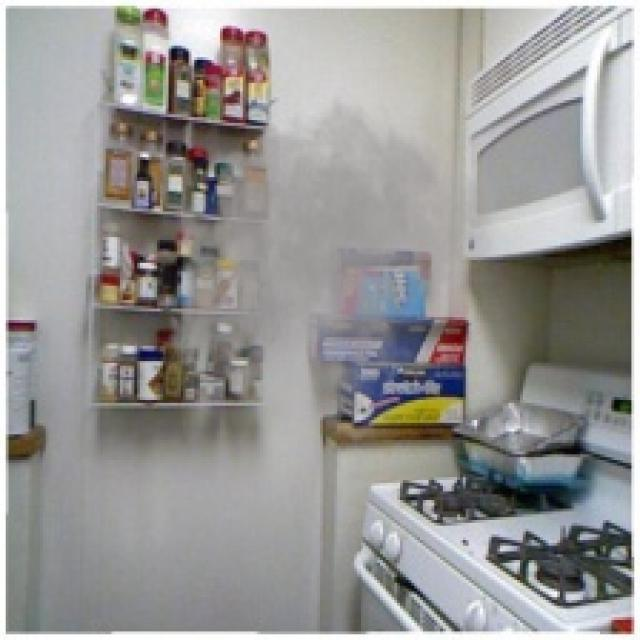Smoke: (152, 77, 508, 460)
